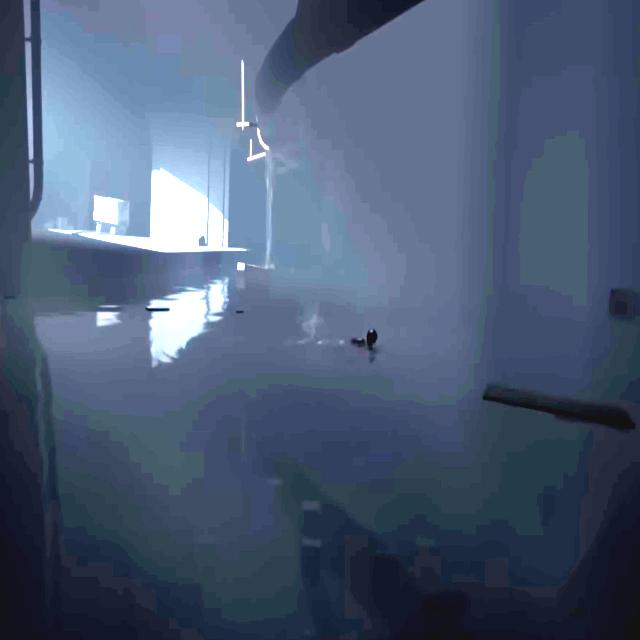boy: (366, 328, 378, 350)
